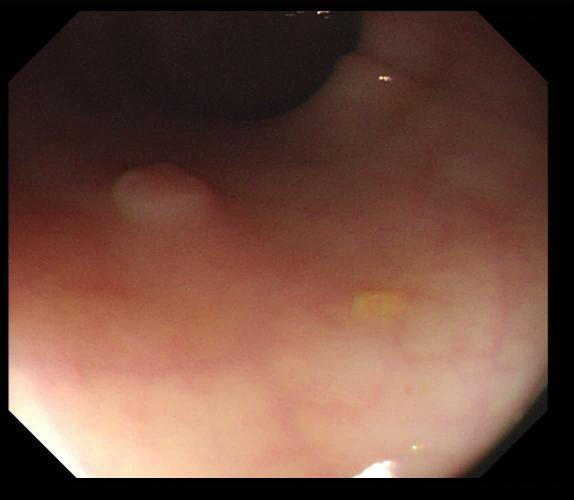polyp: (109, 163, 218, 227), (343, 283, 418, 334)
